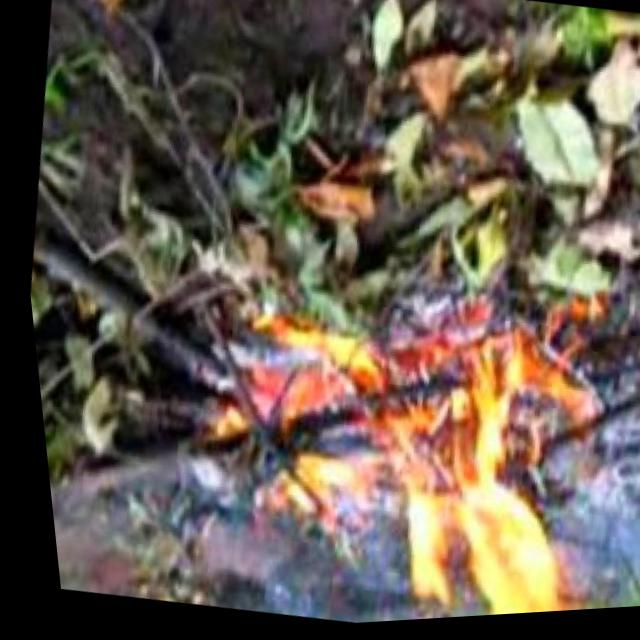Fire: (230, 298, 625, 631)
